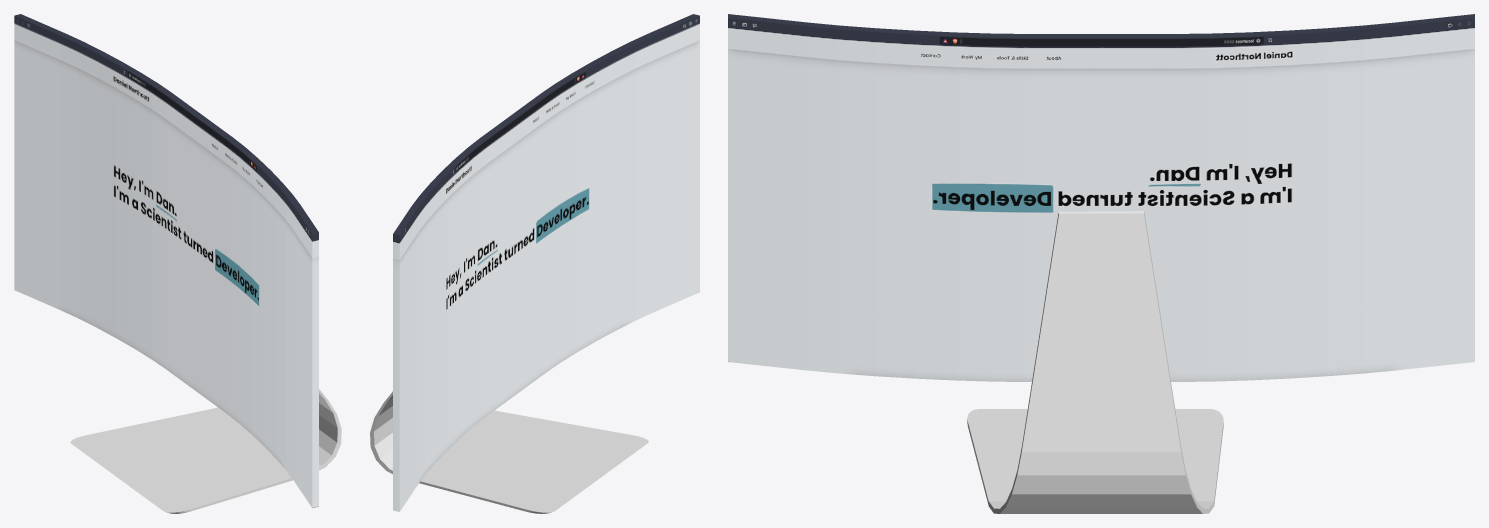
Rendered from portfolio-monitor-transformed.glb.
3 views of the same model, side by side, from view 1: azimuth 30°, elevation 25°; view 2: azimuth 150°, elevation 25°; view 3: azimuth 270°, elevation 25° (orthographic). The views are drawn at different scales.
Parts seen in each view (by area): view 1: Screenshot 2022-09-08 at 10.01.54, Object; view 2: Screenshot 2022-09-08 at 10.01.54, Object; view 3: Screenshot 2022-09-08 at 10.01.54, Object.
Part boxes in pixels (x1,y1,x2,y2): Screenshot 2022-09-08 at 10.01.54: (14, 14, 318, 508); Object: (70, 389, 341, 513); Screenshot 2022-09-08 at 10.01.54: (393, 14, 699, 511); Object: (370, 391, 648, 513); Screenshot 2022-09-08 at 10.01.54: (728, 14, 1474, 381); Object: (967, 211, 1223, 513).
Bounding box in the file's own units: 2.93 × 5.01 × 7.9.
Materials: 2 (1 with a texture image).
